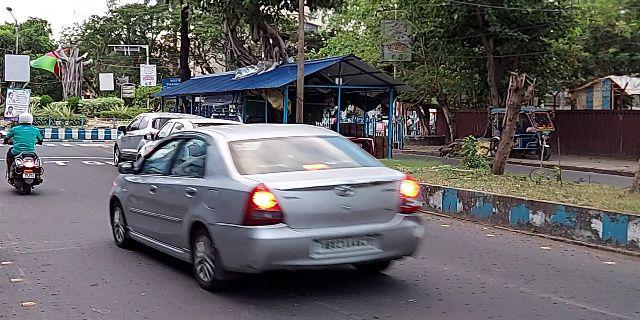Car: (106, 127, 440, 287), (109, 110, 172, 152)
Motorbike: (5, 106, 43, 197)
